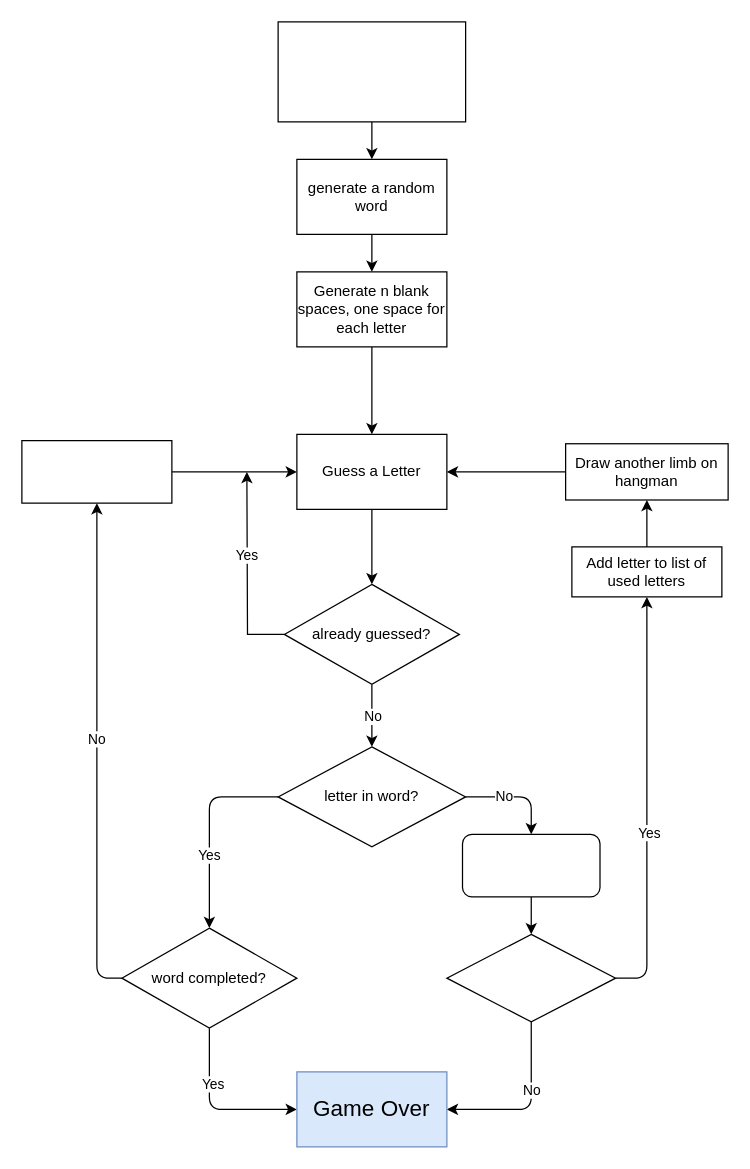
The diagram is 750 pixels wide and 1169 high, and some of its shapes have lost their labels. Here are the shapes that lost their labels. From the top down, the box of each, then its label:
(277, 21, 466, 122): Start the Game!
(21, 439, 172, 503): remove blank space and write letters
(461, 833, 600, 897): loose a life
(446, 933, 616, 1022): lifes left?
